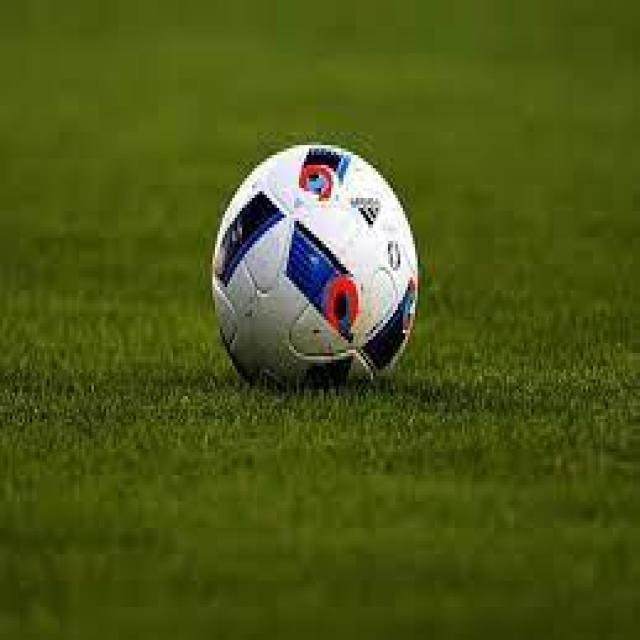Soccer Ball: (215, 148, 418, 390)
